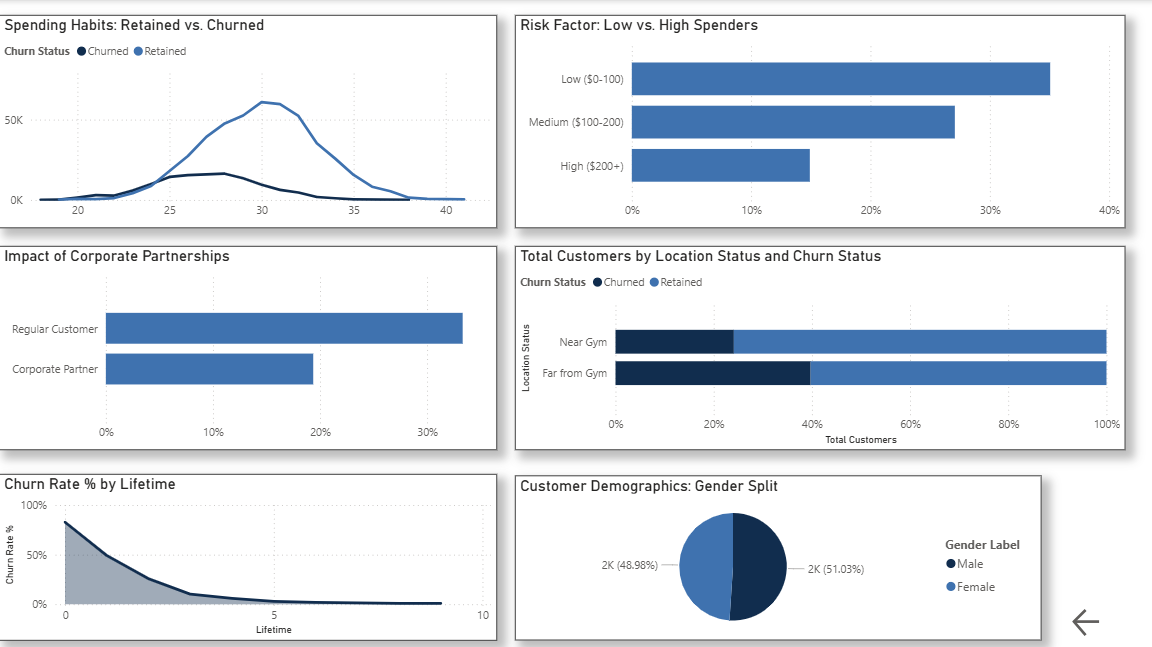

The dashboard page shown, as its layout file describes it:
{"tool":"powerbi","page":{"name":"Page 2","canvas":[1280,720],"ordinal":1},"visuals":[{"type":"clusteredBarChart","title":"Impact of Corporate Partnerships","fields":{"Category":["gym_churn_us.Partner Status"],"Y":["gym_churn_us.Churn Rate %"]},"box":[0,271.7,550,225.3],"z":1000},{"type":"hundredPercentStackedBarChart","fields":{"Category":["gym_churn_us.Location Status"],"Y":["gym_churn_us.Total Customers"],"Series":["gym_churn_us.Churn Status"]},"box":[569.8,271.7,674.2,225.3],"z":2000},{"type":"lineChart","title":"Spending Habits: Retained vs. Churned","fields":{"Category":["gym_churn_us.Age"],"Y":["Sum(gym_churn_us.Avg_additional_charges_total)"],"Series":["gym_churn_us.Churn Status"]},"box":[0,16.6,550,235.2],"z":3000},{"type":"clusteredBarChart","title":"Risk Factor: Low vs. High Spenders","fields":{"Category":["gym_churn_us.Spending Category"],"Y":["gym_churn_us.Churn Rate %"]},"box":[569.8,16.6,674.2,235.2],"z":4000},{"type":"areaChart","fields":{"Category":["gym_churn_us.Lifetime"],"Y":["gym_churn_us.Churn Rate %"]},"box":[0,523.4,550,183.9],"z":5000},{"type":"pieChart","title":"Customer Demographics: Gender Split","fields":{"Y":["gym_churn_us.Total Customers"],"Category":["gym_churn_us.Gender Label"]},"box":[569.8,525.1,581.4,182.2],"z":6000},{"type":"actionButton","box":[1181.1,667.6,99.4,39.8],"z":6001}]}

Visuals, with their boxes in screenshot pixels (x1, y1, x2, y2), scaled from the page's 1280x720 canvas onto the 1152x647 screenshot:
"Impact of Corporate Partnerships" clusteredBarChart: 0:244:495:447
hundredPercentStackedBarChart - gym_churn_us.Location Status x gym_churn_us.Total Customers: 513:244:1120:447
"Spending Habits: Retained vs. Churned" lineChart: 0:15:495:226
"Risk Factor: Low vs. High Spenders" clusteredBarChart: 513:15:1120:226
areaChart - gym_churn_us.Lifetime x gym_churn_us.Churn Rate %: 0:470:495:636
"Customer Demographics: Gender Split" pieChart: 513:472:1036:636
actionButton: 1063:600:1151:636
